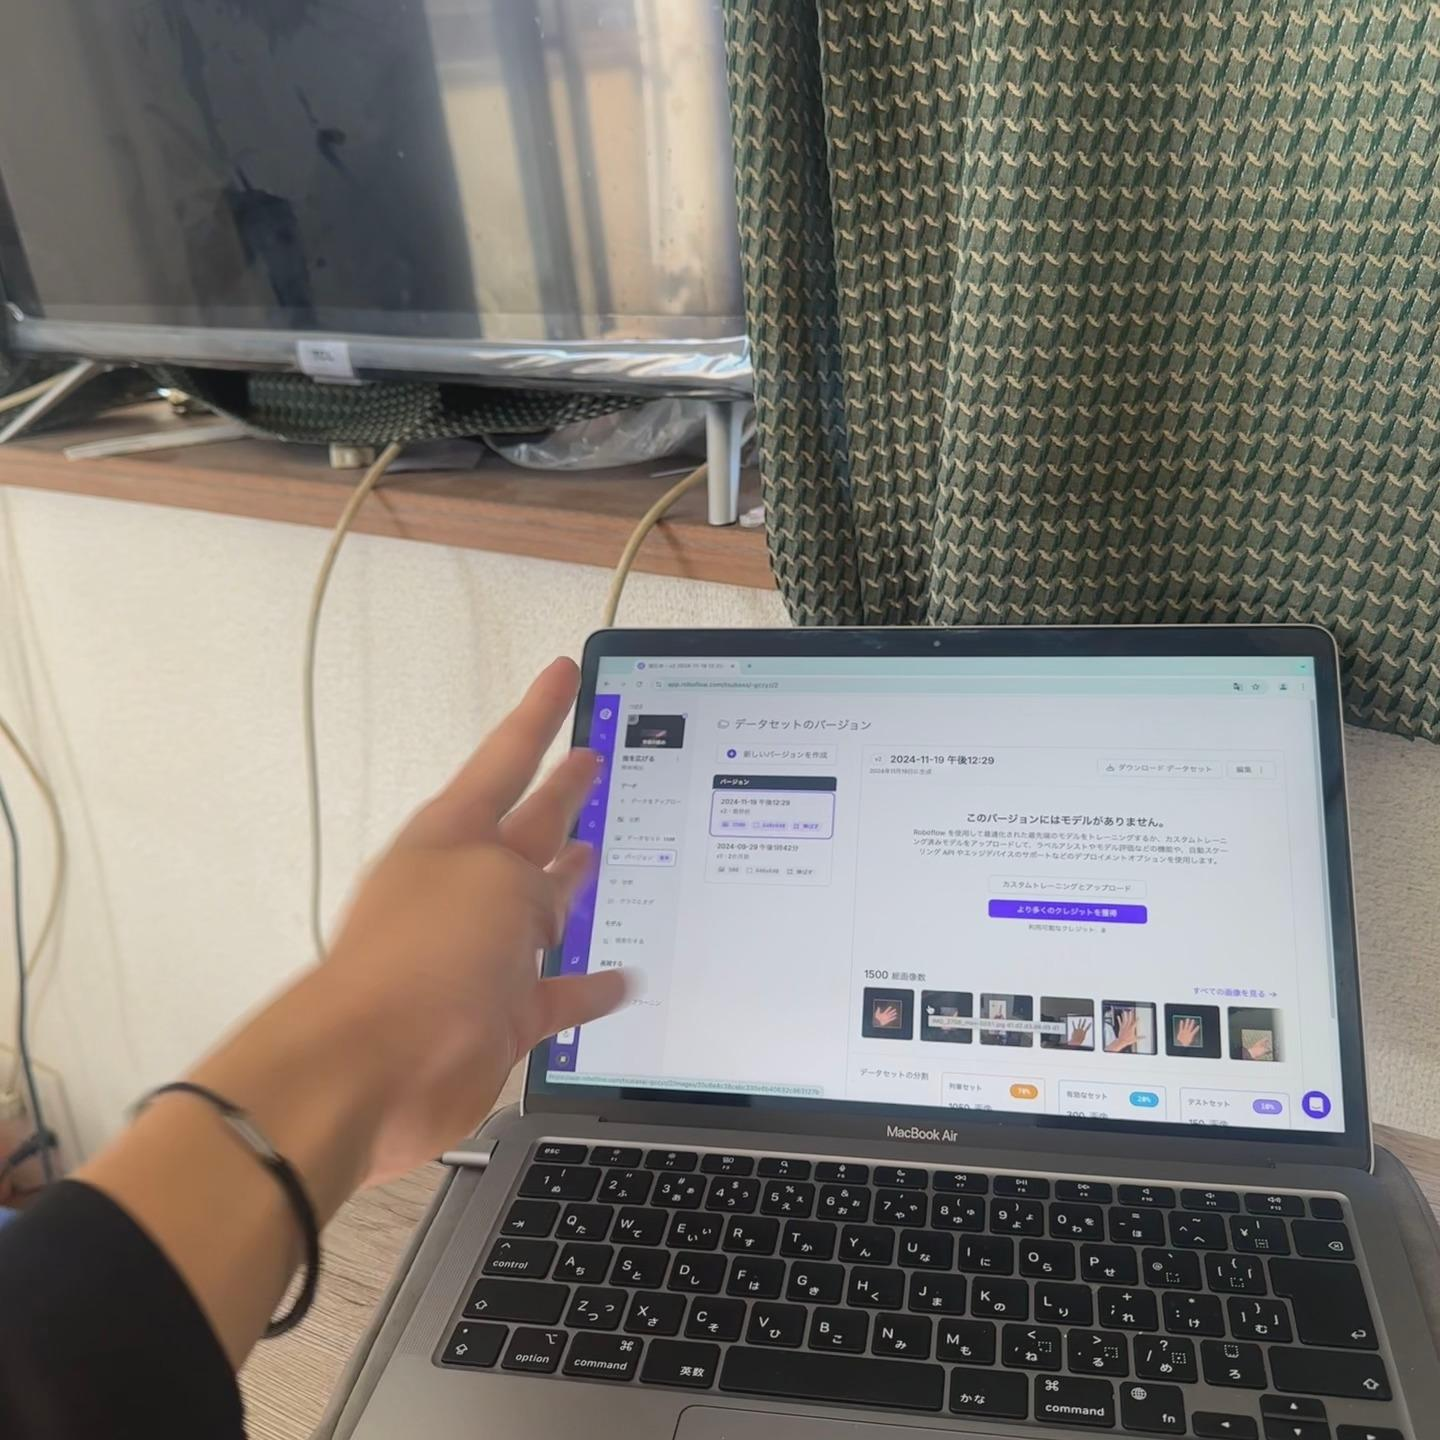without_gloves: (326, 509, 810, 1195)
